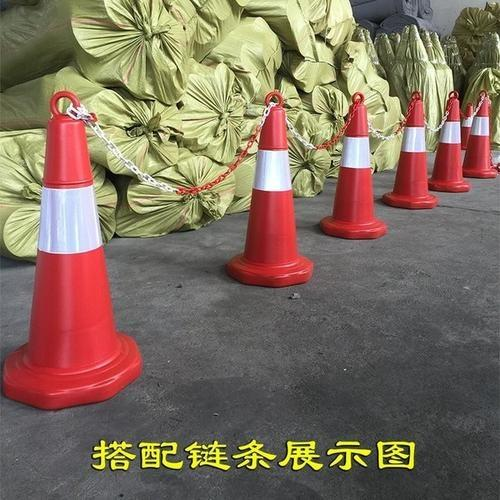cone_barrel: (6, 100, 143, 411), (223, 105, 313, 291), (318, 95, 385, 240), (384, 96, 436, 212), (429, 92, 466, 193), (464, 91, 494, 178)
